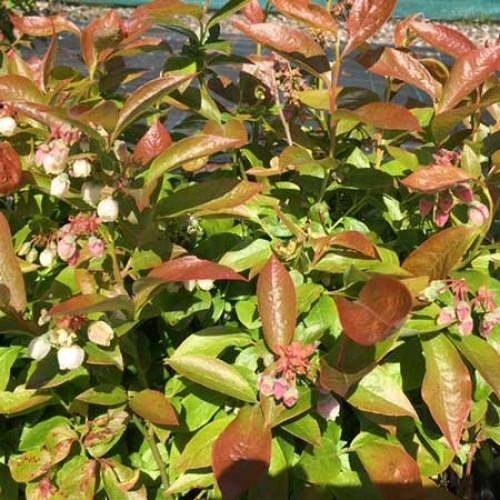Blueberry leaf: (322, 264, 437, 354), (409, 312, 479, 453), (199, 392, 291, 496), (107, 68, 204, 145), (144, 176, 267, 226), (153, 244, 258, 302), (259, 246, 303, 365), (334, 93, 427, 140), (123, 383, 191, 436)
